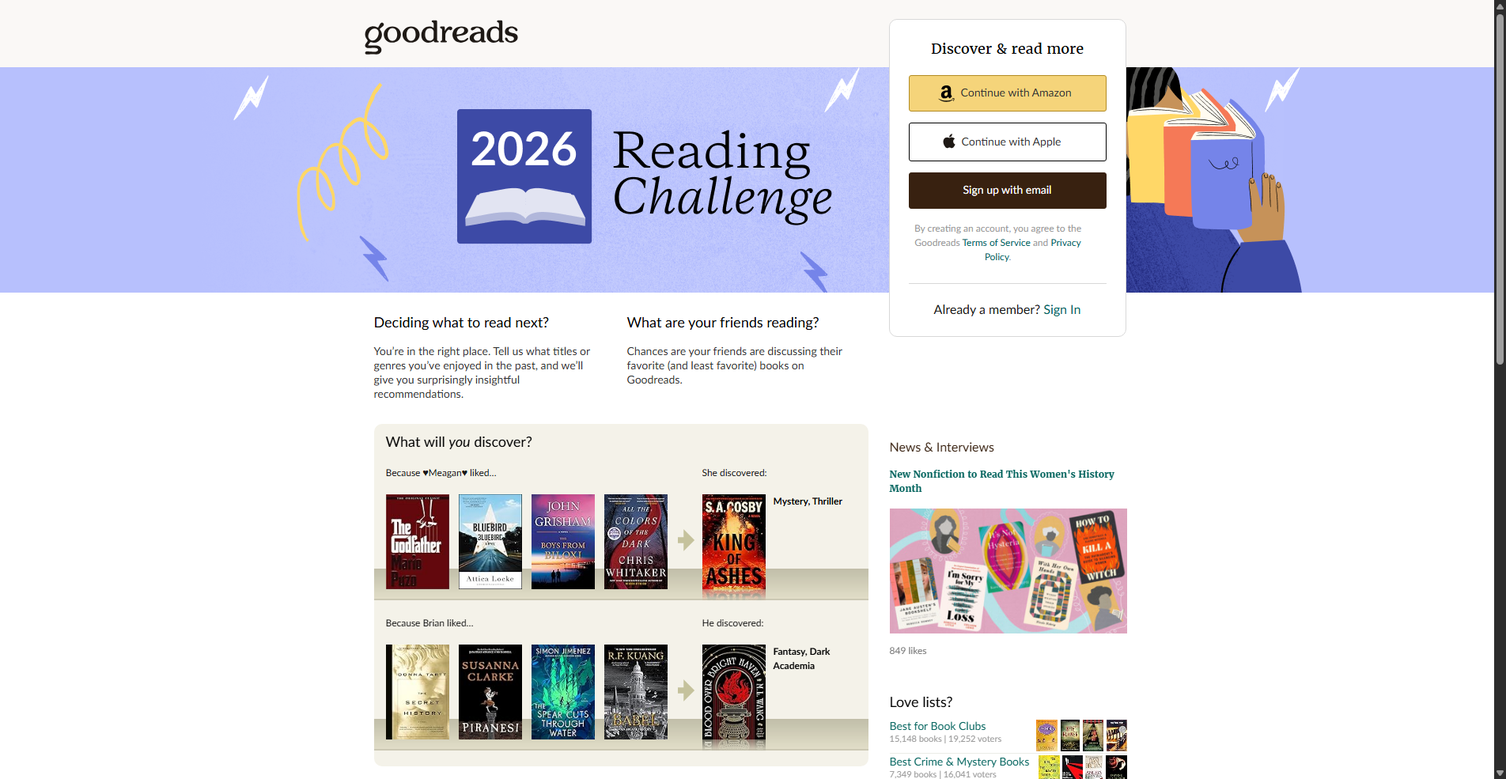button: (908, 123, 1106, 161), (908, 75, 1106, 112), (908, 172, 1106, 209), (937, 130, 961, 154), (938, 85, 954, 102)
link: (363, 67, 1131, 301), (702, 494, 860, 601), (702, 645, 860, 751), (889, 467, 1127, 496), (889, 625, 1127, 635), (984, 238, 1081, 262), (889, 757, 1029, 768), (363, 47, 519, 56), (889, 721, 986, 732), (962, 238, 1030, 248), (1044, 304, 1081, 316), (1036, 742, 1057, 753), (1083, 742, 1104, 753), (1106, 742, 1127, 753), (1060, 742, 1080, 753), (1039, 778, 1060, 779), (1062, 778, 1083, 779), (1106, 778, 1127, 779), (1086, 778, 1103, 779)
